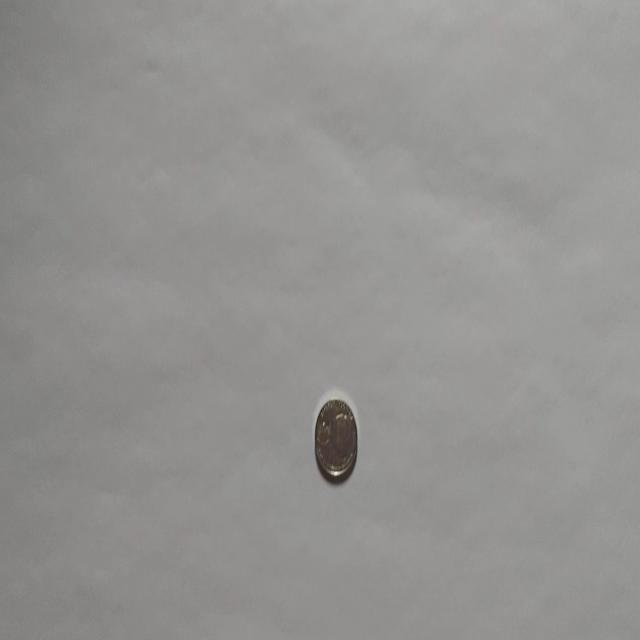seratus rupiah: (314, 396, 358, 480)
